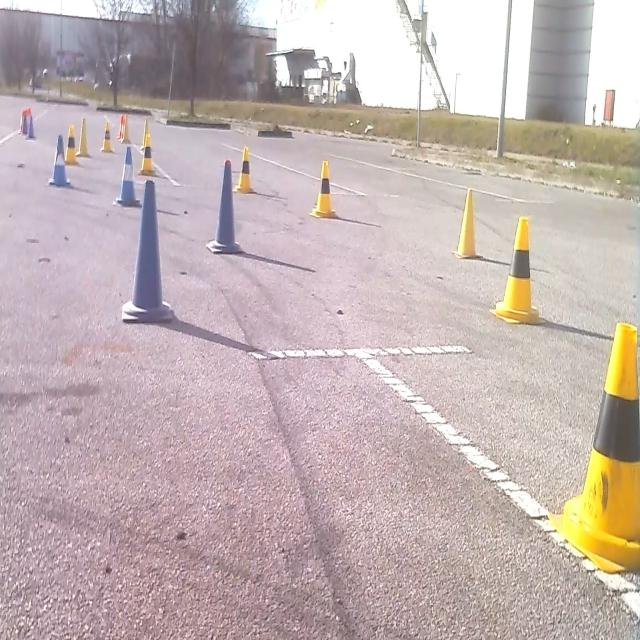blue_cone: (121, 177, 174, 324), (206, 157, 243, 254), (113, 144, 141, 207), (48, 133, 70, 186), (26, 111, 36, 138)
orange_cone: (116, 112, 125, 139)
yellow_cone: (547, 319, 639, 574), (489, 214, 542, 325), (453, 185, 478, 259), (310, 158, 336, 218), (232, 145, 255, 194), (138, 131, 158, 176), (76, 116, 91, 157), (64, 123, 78, 165), (100, 118, 114, 153), (140, 116, 150, 149), (120, 113, 130, 143)
